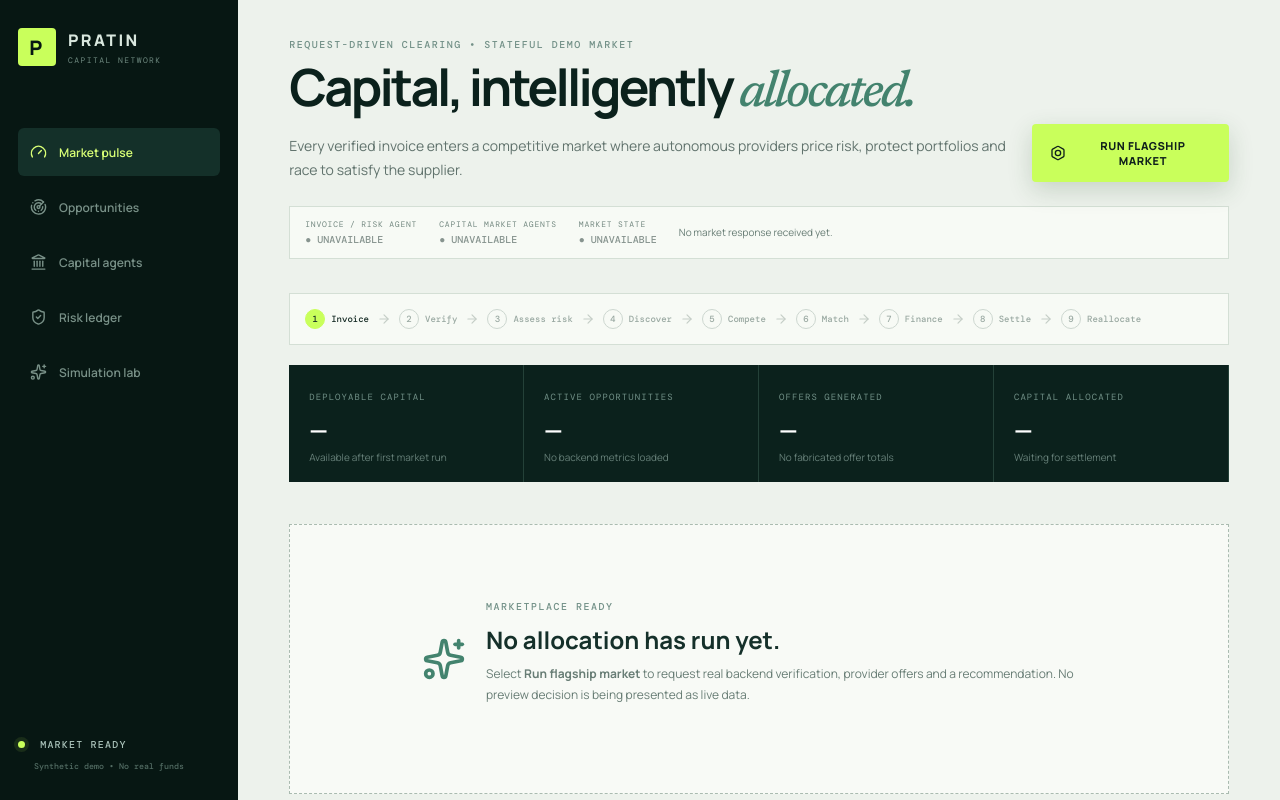
Test case: PRATIN cockpit › shows API failures and never fabricates success
Click the button "Run flagship market". click: (1130, 153)
box: [1032, 124, 1229, 182]
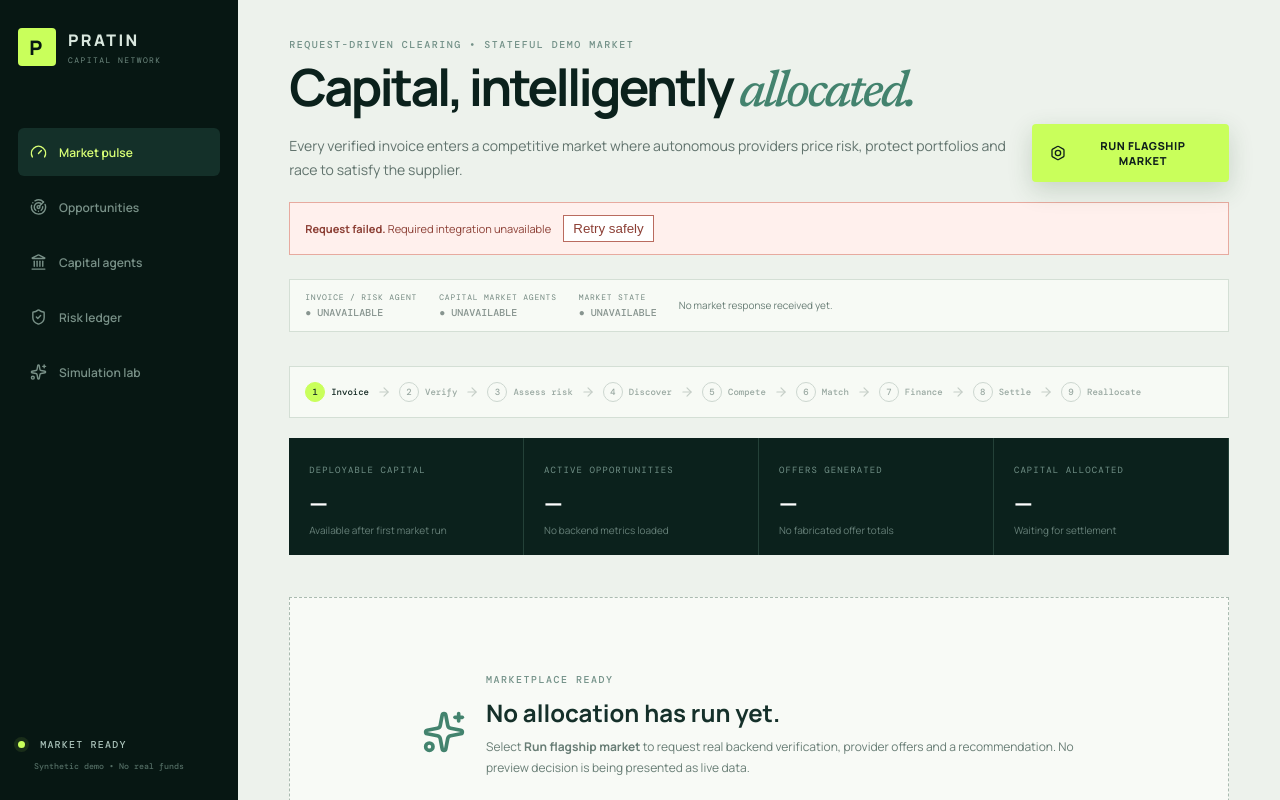
Result: the message shows "Required integration unavailable" at [388, 221, 551, 236]
Click the button "Retry safely". click: (608, 228)
box: [563, 215, 654, 242]
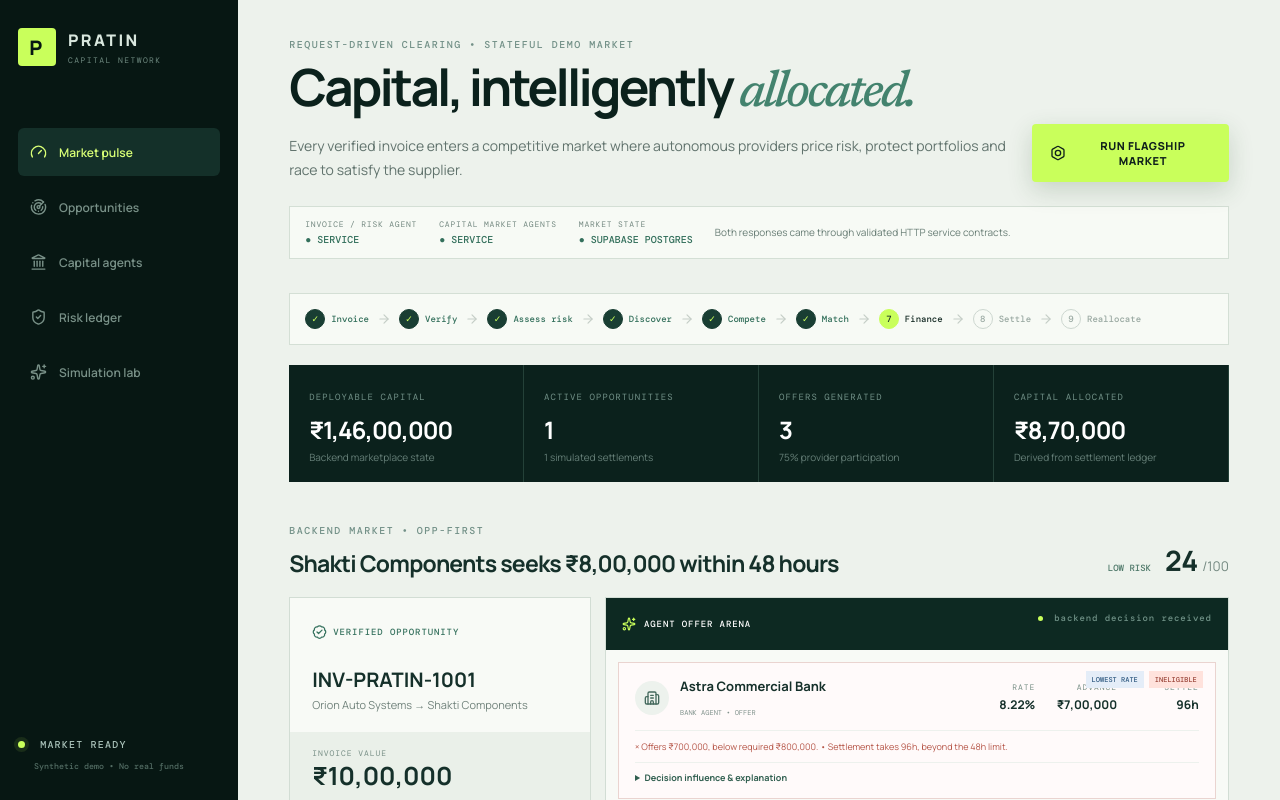
Result: the heading "Astra Commercial Bank" is shown at [680, 677, 826, 695]
Result: the message "Request failed. Required integration unavailable Retry safely" is gone
